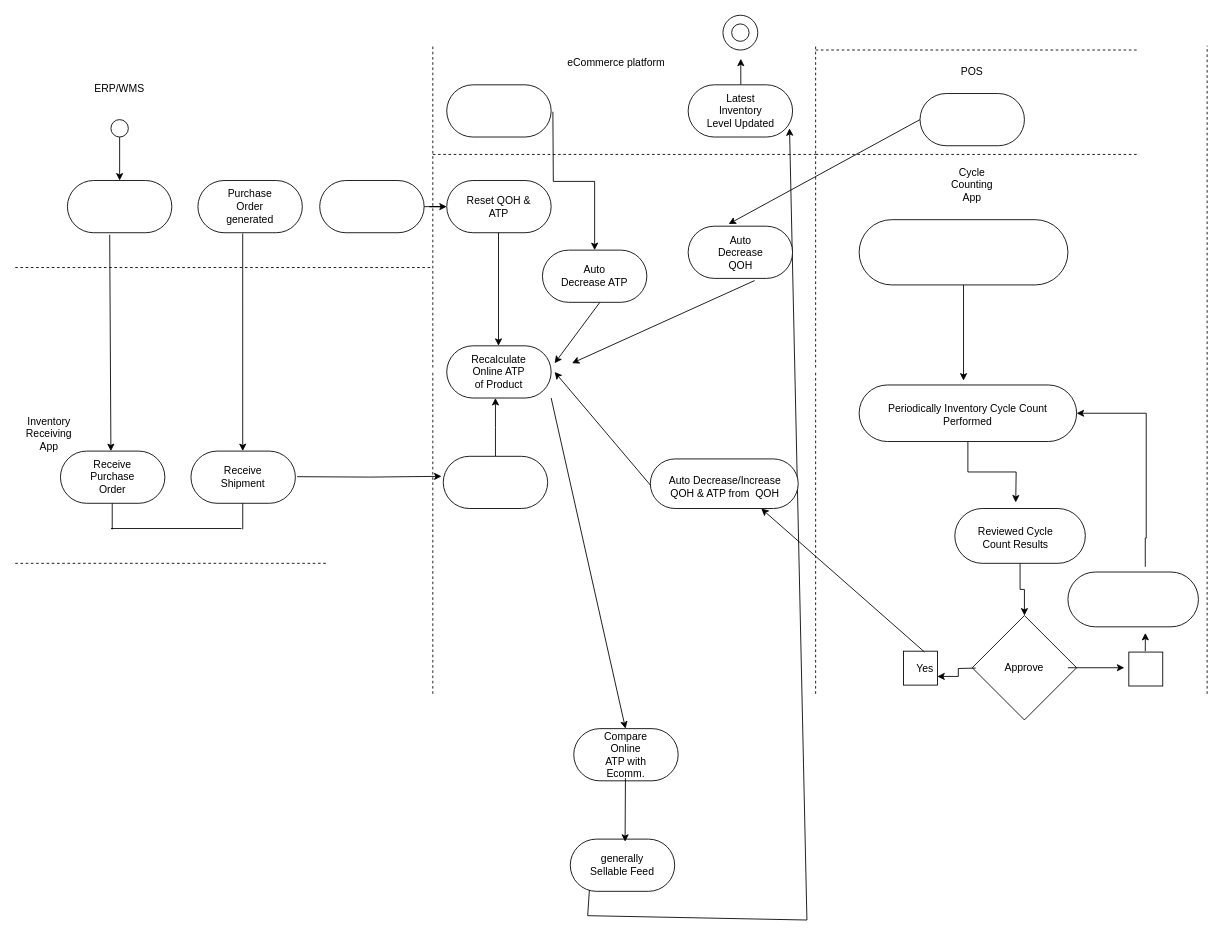
Some shapes in this 1223 by 942 pixel diagram are drawn without their labels. Each missing label, with the centre of its shape:
Auto Increase QOH & ATP: the point at 495,482
Create and Schedule Cycle Count: the point at 963,252
Download Ecomm. Order: the point at 498,110
In-Store Sales: the point at 971,119
Inventory Updated Feed: the point at 371,206
No: the point at 1145,668
ReAcoount Req: the point at 1132,599
Transfer Order generated: the point at 119,206
